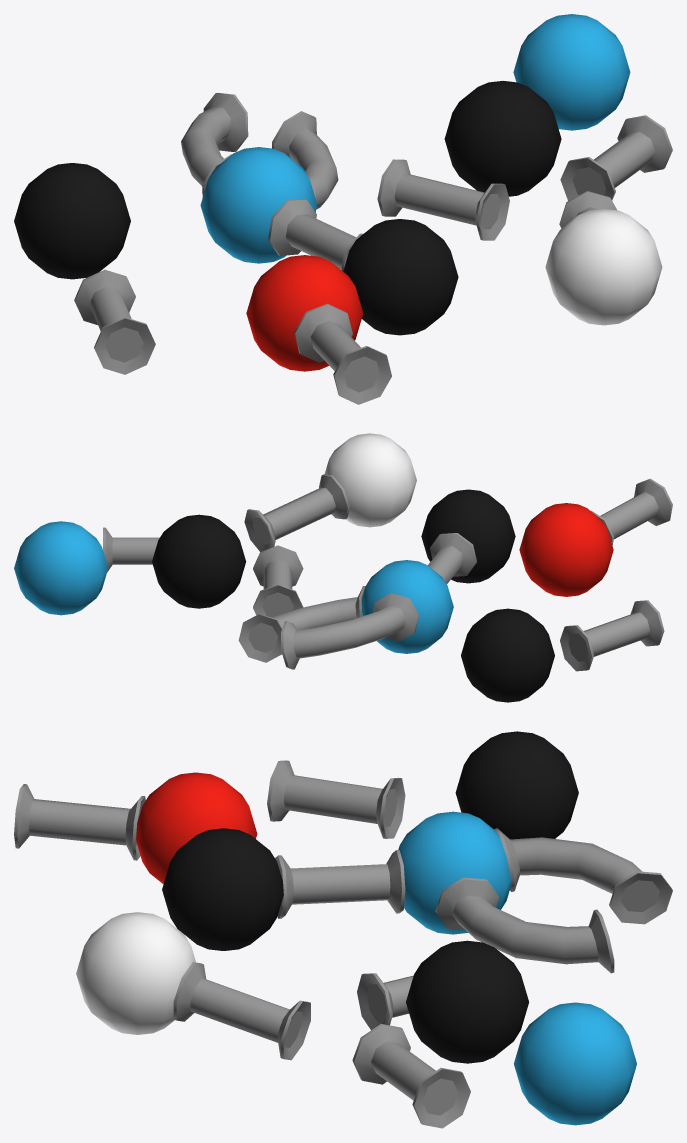
File: SM_Molecules_Pattern2_LOD0.FBX
The picture shows the model from 3 angles, top to bottom: view 1: azimuth 30°, elevation 25°; view 2: azimuth 150°, elevation 25°; view 3: azimuth 270°, elevation 25°; orthographic projection. The views are drawn at different scales.
Visible parts, largest first — view 1: SM_Molecule_Parts_Pattern2; view 2: SM_Molecule_Parts_Pattern2; view 3: SM_Molecule_Parts_Pattern2.
Boxes of the visible parts, x1,y1,x2,y2 form: SM_Molecule_Parts_Pattern2: (14, 14, 672, 404); SM_Molecule_Parts_Pattern2: (14, 433, 672, 702); SM_Molecule_Parts_Pattern2: (14, 731, 672, 1128).
Size of the model in its own units: 0.1964 by 0.0308 by 0.1602.
Materials: 1 (1 with a texture image).
